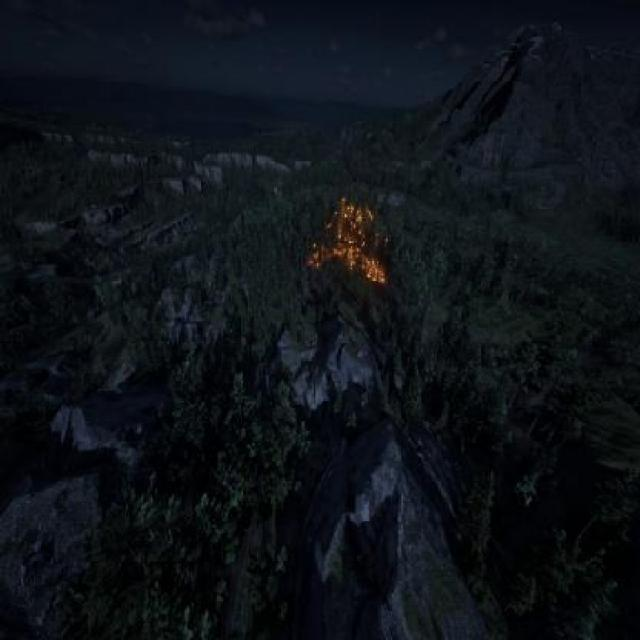Fire: (301, 190, 397, 296)
